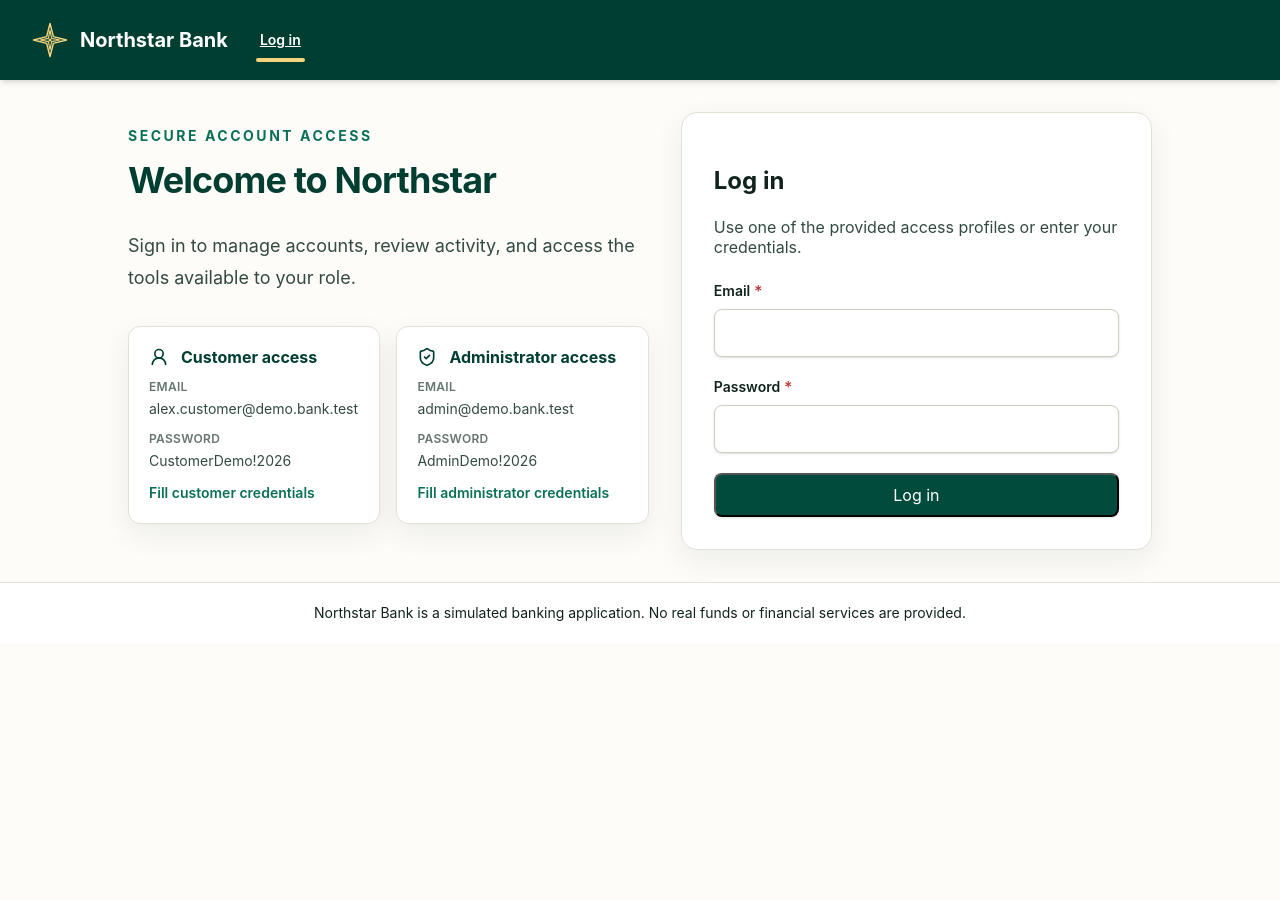
Scenario: authentication flow › shows seeded credentials and keeps the login password input masked
The width and height of the screenshot is (1280, 900).
Check: the heading "Log in" is shown, box top-left (714, 166), bottom-right (784, 195)
Check: the text "CustomerDemo!2026" is shown, box top-left (149, 452), bottom-right (291, 469)
Click the button "Customer access" at [254, 425], box top-left (128, 326), bottom-right (380, 524)
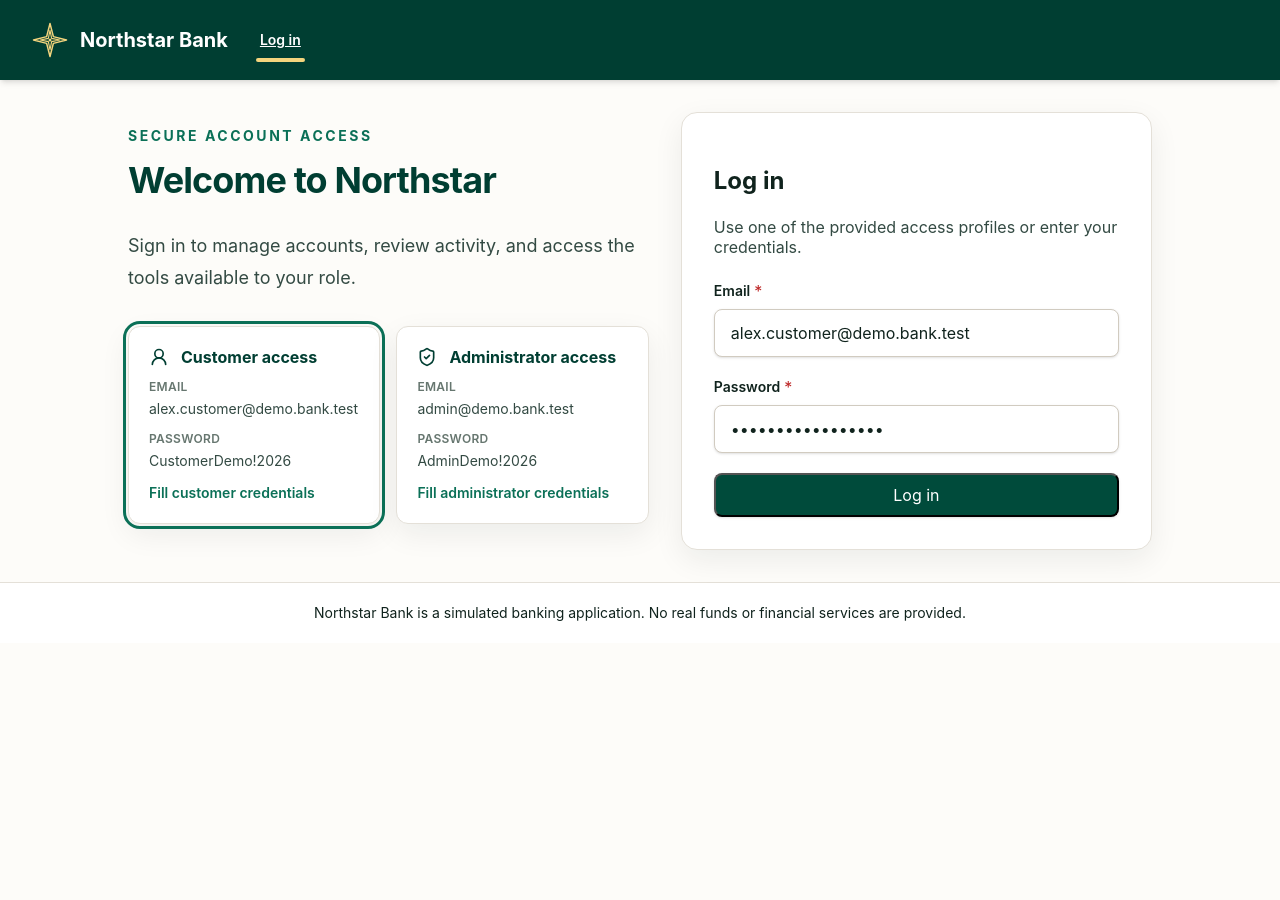
Check: the field labelled "Email" holds "alex.customer@demo.bank.test", box top-left (714, 309), bottom-right (1119, 357)
Check: the password field labelled "Password" holds "CustomerDemo!2026", box top-left (714, 405), bottom-right (1119, 453)
